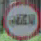Heavy Vehicles: (6, 1, 38, 40)
